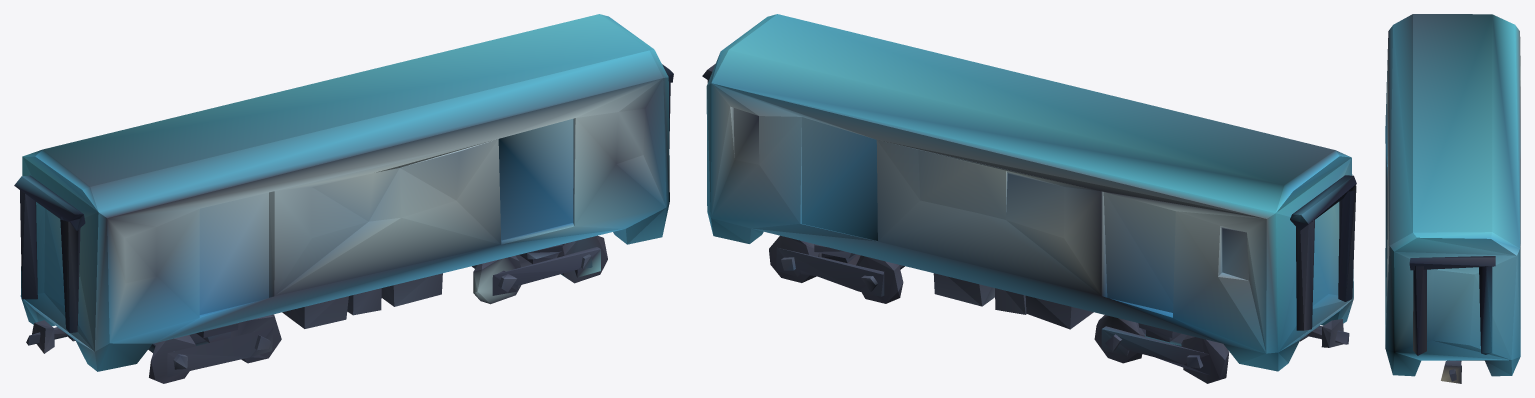
Rendered from car_lo.glb.
3 renders of one model, left to right at view 1: azimuth 30°, elevation 25°; view 2: azimuth 150°, elevation 25°; view 3: azimuth 270°, elevation 25°, orthographic. The views are drawn at different scales.
Visible parts, largest first — view 1: geometry_0; view 2: geometry_0; view 3: geometry_0.
Boxes of the visible parts, left/top/right/bottom form: geometry_0: left=14, top=14, right=673, bottom=383; geometry_0: left=702, top=14, right=1356, bottom=383; geometry_0: left=1385, top=14, right=1520, bottom=383.
Bounding box in the file's own units: 0.9487 × 0.3013 × 0.2182.
